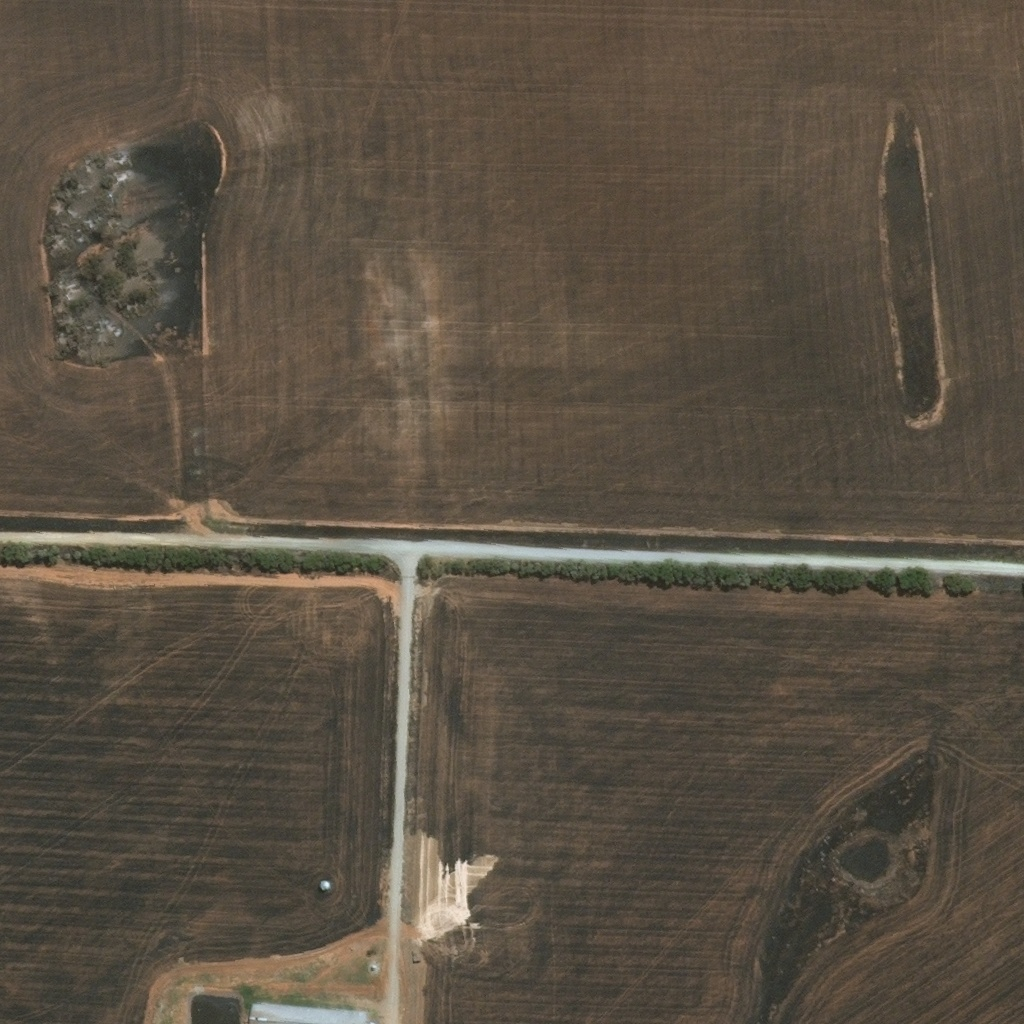0 no-damage: (249, 1003, 366, 1023), (319, 878, 331, 890)
